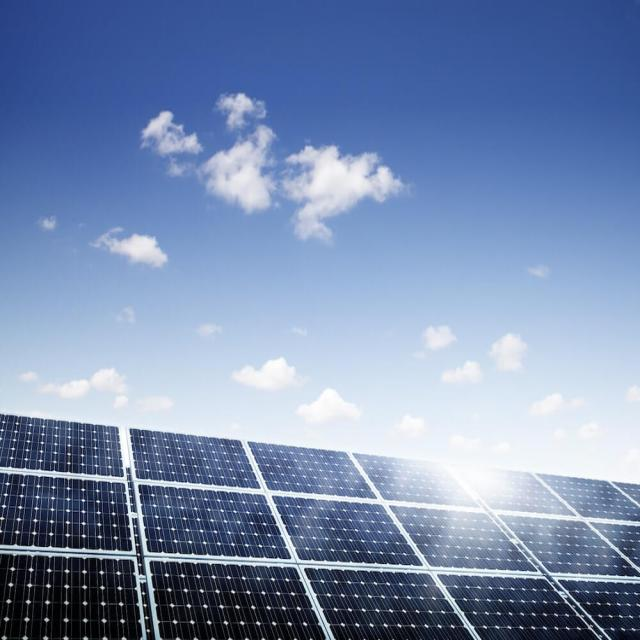clean-solar-panel: (1, 415, 640, 638)
